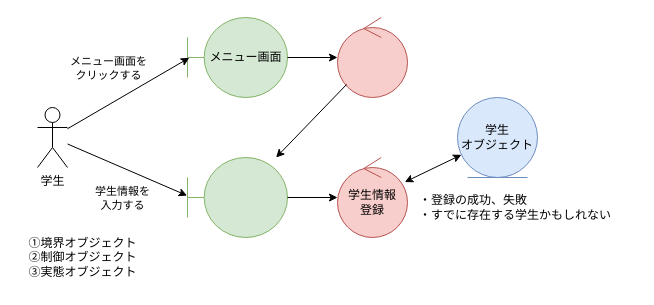
This 654x305 diagram has some shape labels left out. The box of each missing label's shape, as (x1, y1, x2, y2) in pixels:
学生登録画面: (186, 156, 288, 238)
表示: (336, 16, 408, 98)
